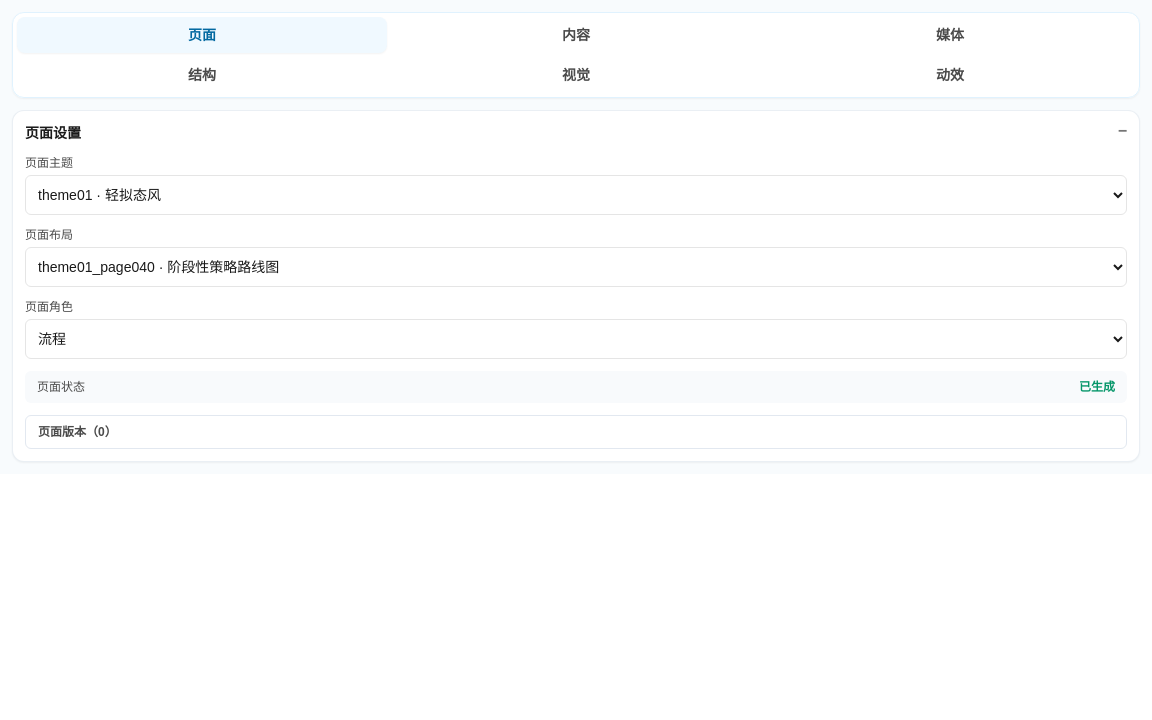
Test: NativeDeckPropertyPanel DashiAI fields › separates crowded settings into page, content, media, structure, visual, and motion layers
Check: the heading "页面设置 −" is shown, box [25, 123, 1127, 143]
Check: the dropdown labelled "页面角色" shows "流程", box [25, 319, 1127, 359]
What coordinates should you click on to do the following:
click the tab "内容"
I would click on:
 (576, 35)
Its box is [391, 17, 761, 53].
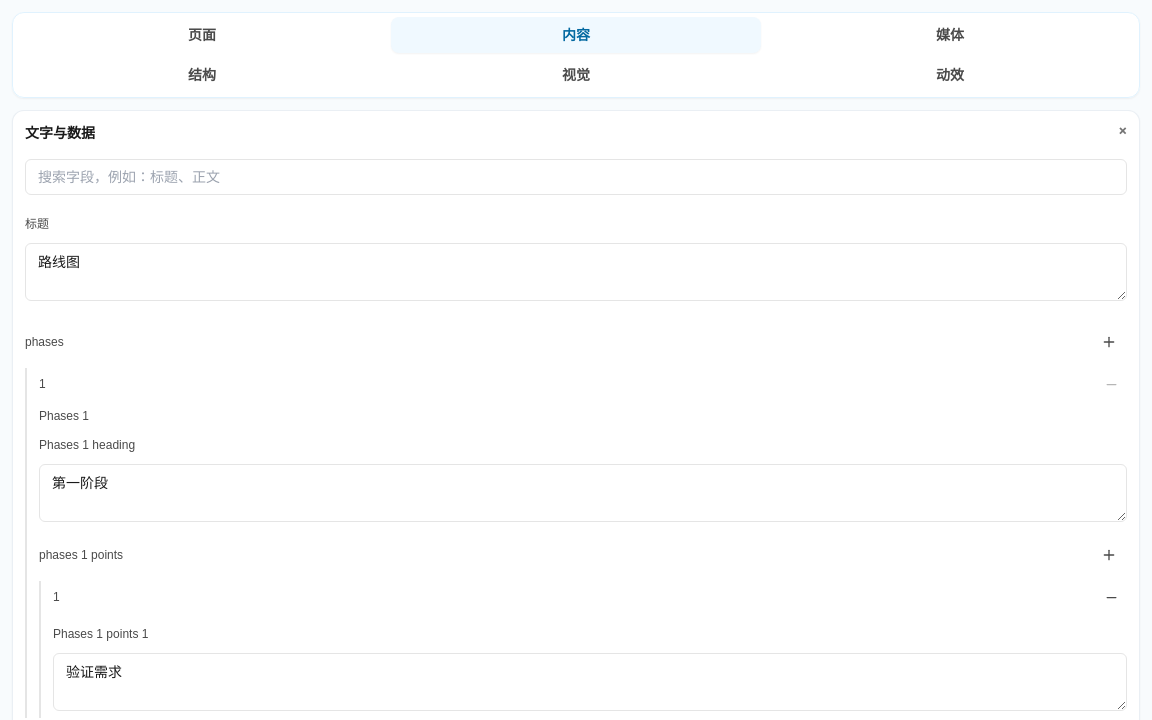
Check: the heading "文字与数据 +" is shown, box [25, 123, 1127, 143]
Check: the heading "页面设置" is gone
What coordinates should you click on to do the following:
click the tab "动效"
I would click on:
 (950, 75)
Its box is [765, 57, 1135, 93].
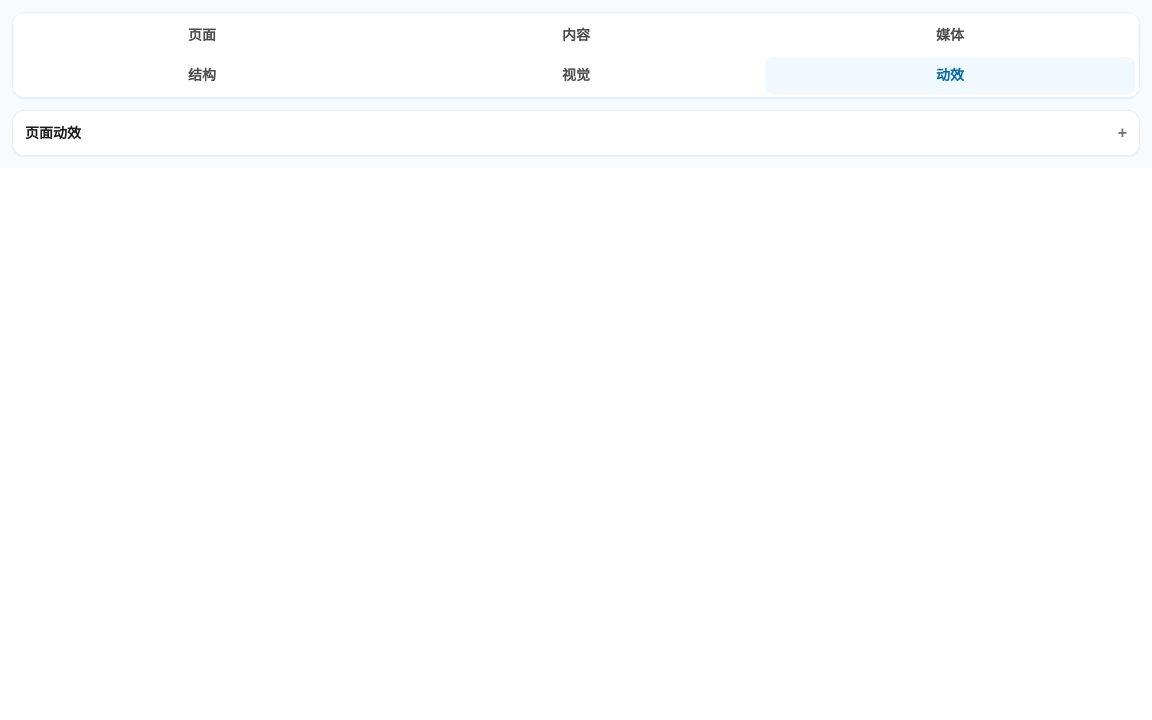
Check: the heading "页面设置" is not shown
Check: the heading "页面动效" is shown, box [25, 123, 81, 143]
